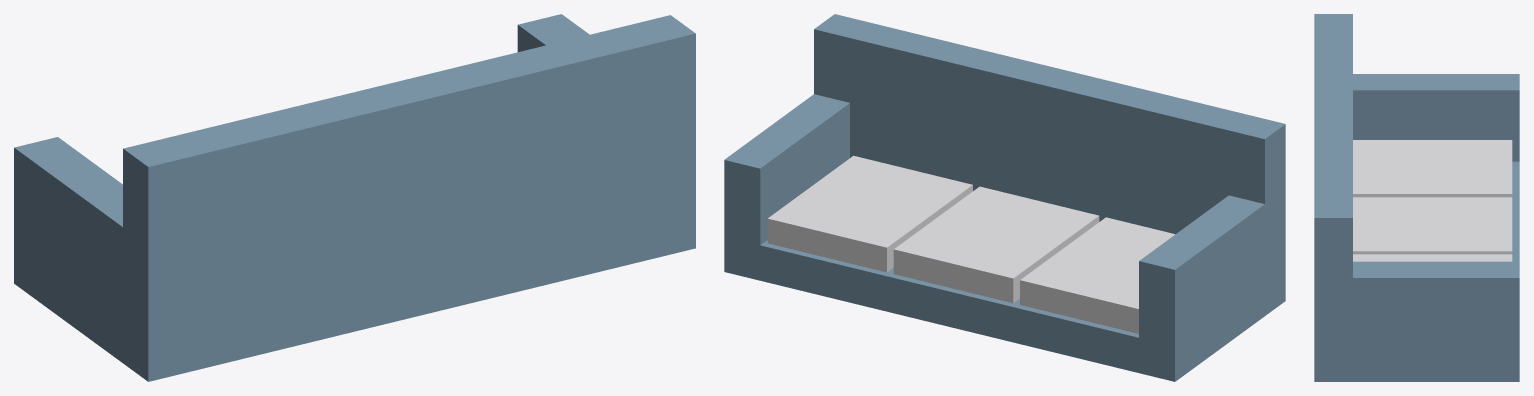
File: sofa.glb
3 views of the same model, side by side, from view 1: azimuth 30°, elevation 25°; view 2: azimuth 150°, elevation 25°; view 3: azimuth 270°, elevation 25° (orthographic). The views are drawn at different scales.
Parts seen in each view (by area): view 1: Backrest, Base, Arm_L, Arm_R; view 2: Backrest, Base, Arm_L, Cushion_1, Cushion_2, Arm_R, Cushion_0; view 3: Arm_R, Backrest, Arm_L, Cushion_0, Cushion_1, Base, Cushion_2.
Part boxes in pixels (x1,y1,x2,y2): Backrest: [123, 15, 695, 350]; Base: [14, 205, 695, 381]; Arm_L: [14, 137, 192, 359]; Arm_R: [517, 14, 695, 228]; Backrest: [814, 14, 1285, 292]; Base: [724, 237, 1285, 381]; Arm_L: [1139, 189, 1285, 362]; Cushion_1: [893, 186, 1099, 303]; Cushion_2: [767, 155, 972, 272]; Arm_R: [724, 94, 849, 262]; Cushion_0: [1020, 217, 1174, 333]; Arm_R: [1314, 261, 1519, 365]; Backrest: [1314, 14, 1352, 359]; Arm_L: [1353, 74, 1519, 161]; Cushion_0: [1353, 140, 1512, 197]; Cushion_1: [1353, 197, 1512, 254]; Base: [1314, 161, 1519, 381]; Cushion_2: [1353, 254, 1512, 261].
Bounding box in the file's own units: 2 × 0.75 × 0.85.
